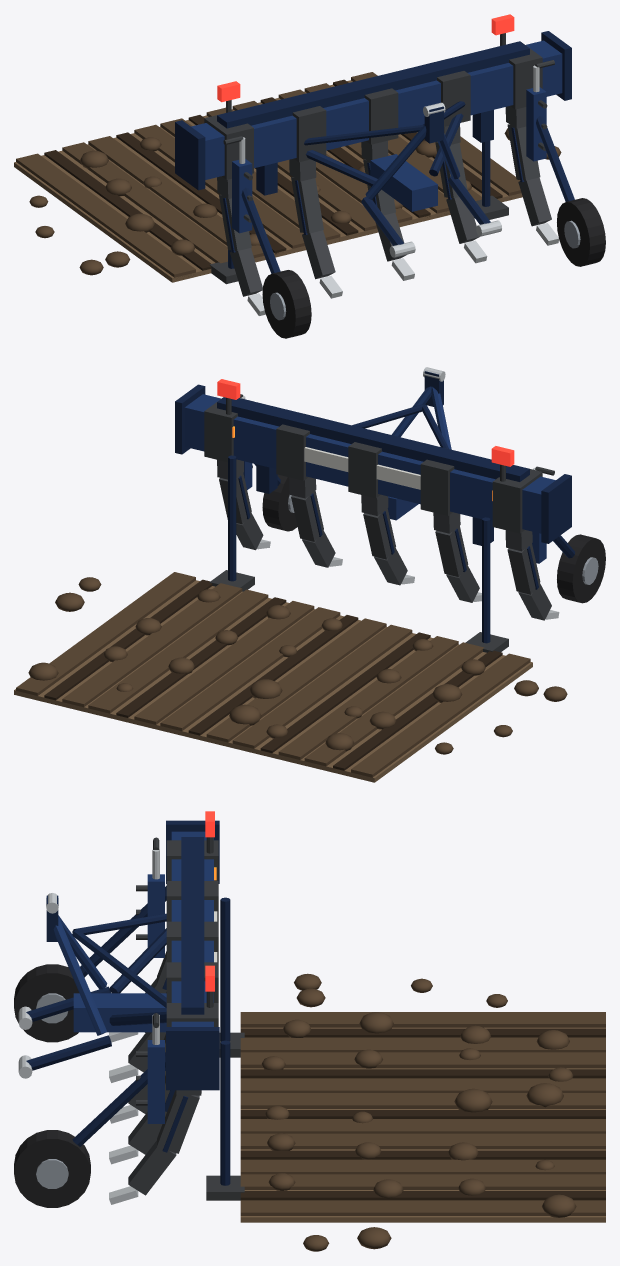
The model's file is deep_ripper.glb.
3 renders of one model, top to bottom at view 1: azimuth 30°, elevation 25°; view 2: azimuth 150°, elevation 25°; view 3: azimuth 270°, elevation 25°, orthographic. The views are drawn at different scales.
Parts seen in each view (by area): view 1: RipperBody, RipperProps; view 2: RipperProps, RipperBody; view 3: RipperProps, RipperBody.
Boxes of the visible parts, left/top/right/bottom form: RipperBody: left=175, top=14, right=605, bottom=338; RipperProps: left=14, top=72, right=561, bottom=282; RipperProps: left=14, top=572, right=567, bottom=782; RipperBody: left=175, top=367, right=605, bottom=652; RipperProps: left=240, top=973, right=605, bottom=1251; RipperBody: left=14, top=811, right=244, bottom=1207.
Bounding box in the file's own units: 3.34 × 1.3 × 3.08.
